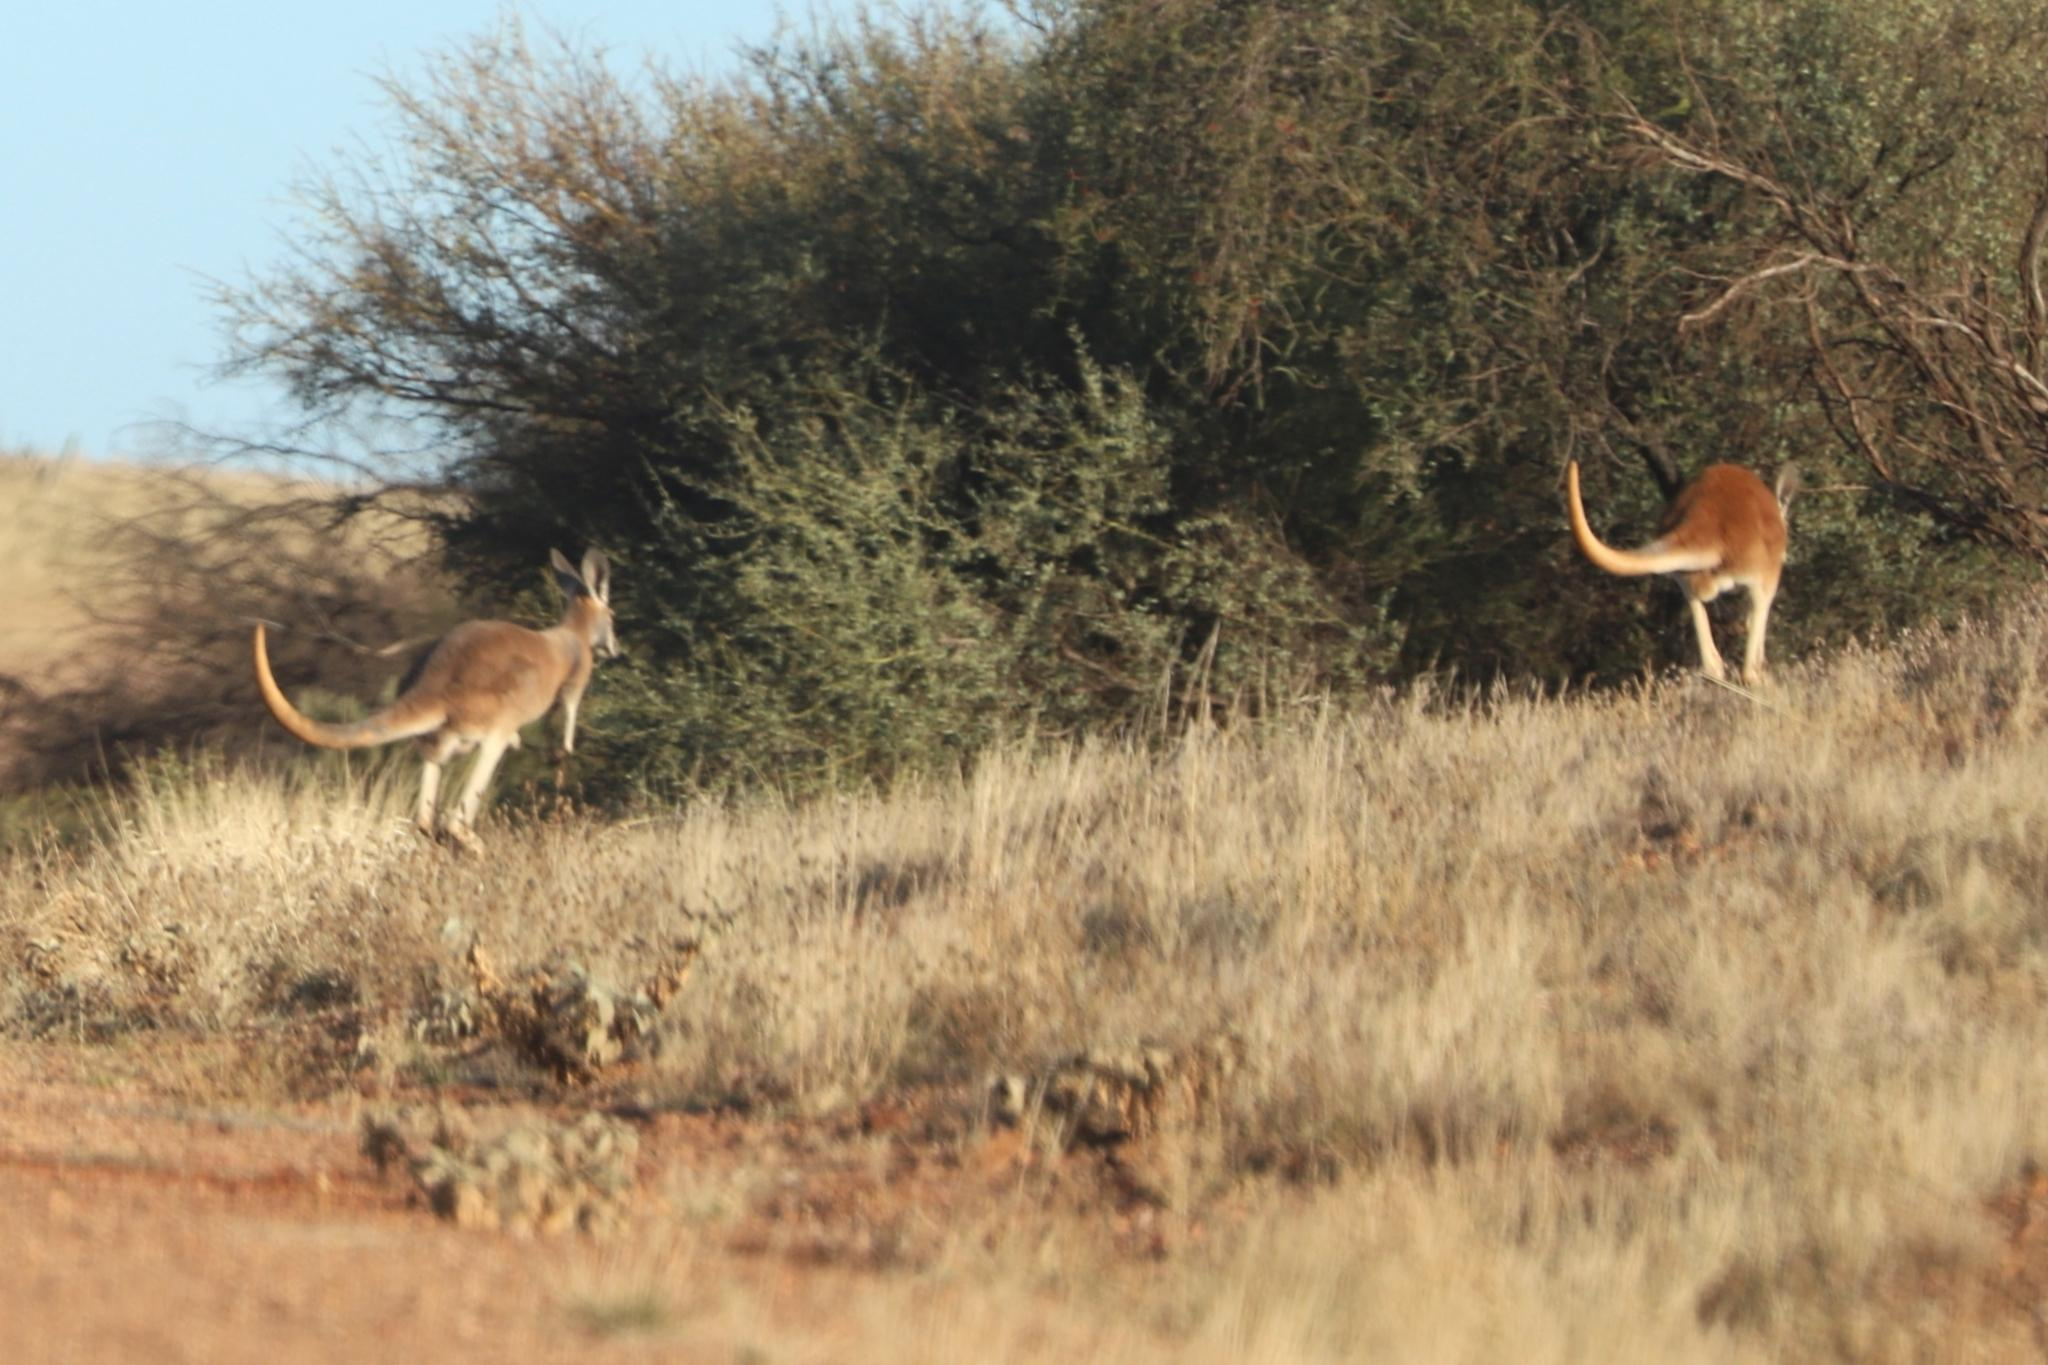Red kangaroo: (233, 538, 640, 887), (1562, 440, 1807, 684)
